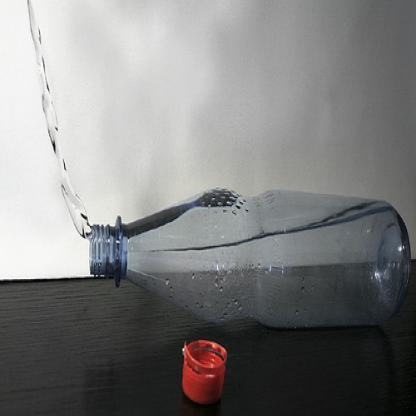bottle: (85, 185, 412, 331)
